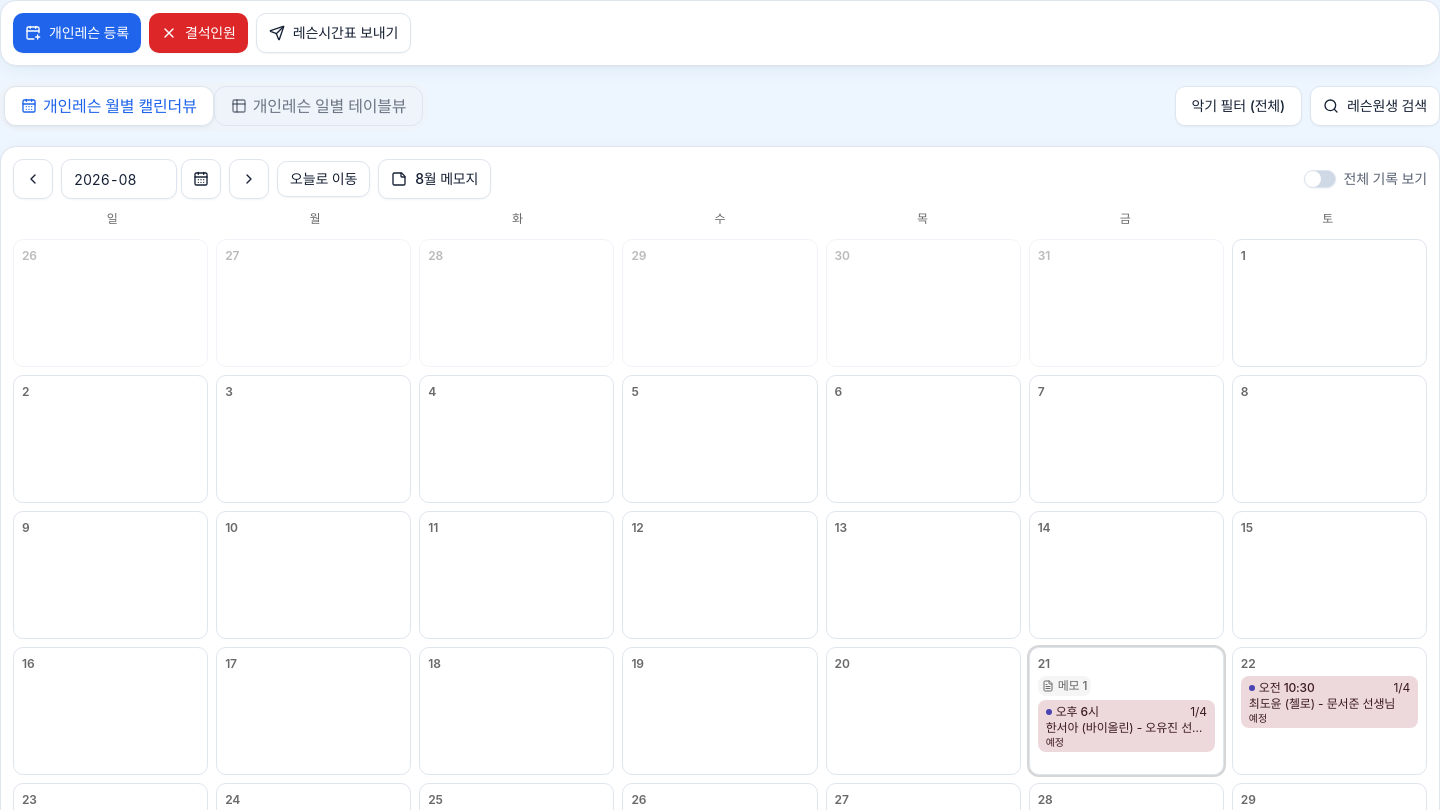
Test: 날짜에서 개인레슨 등록 (명세 3.2) › 출석 확인 창의 버튼으로 그 날짜가 채워진 레슨 일정 등록창을 연다
Click the cell "21 메모 1 오후 6시 1/4 한서아 (바이올린) - 오유진 선생님 예정" at (1126, 711), box [1029, 647, 1224, 775]
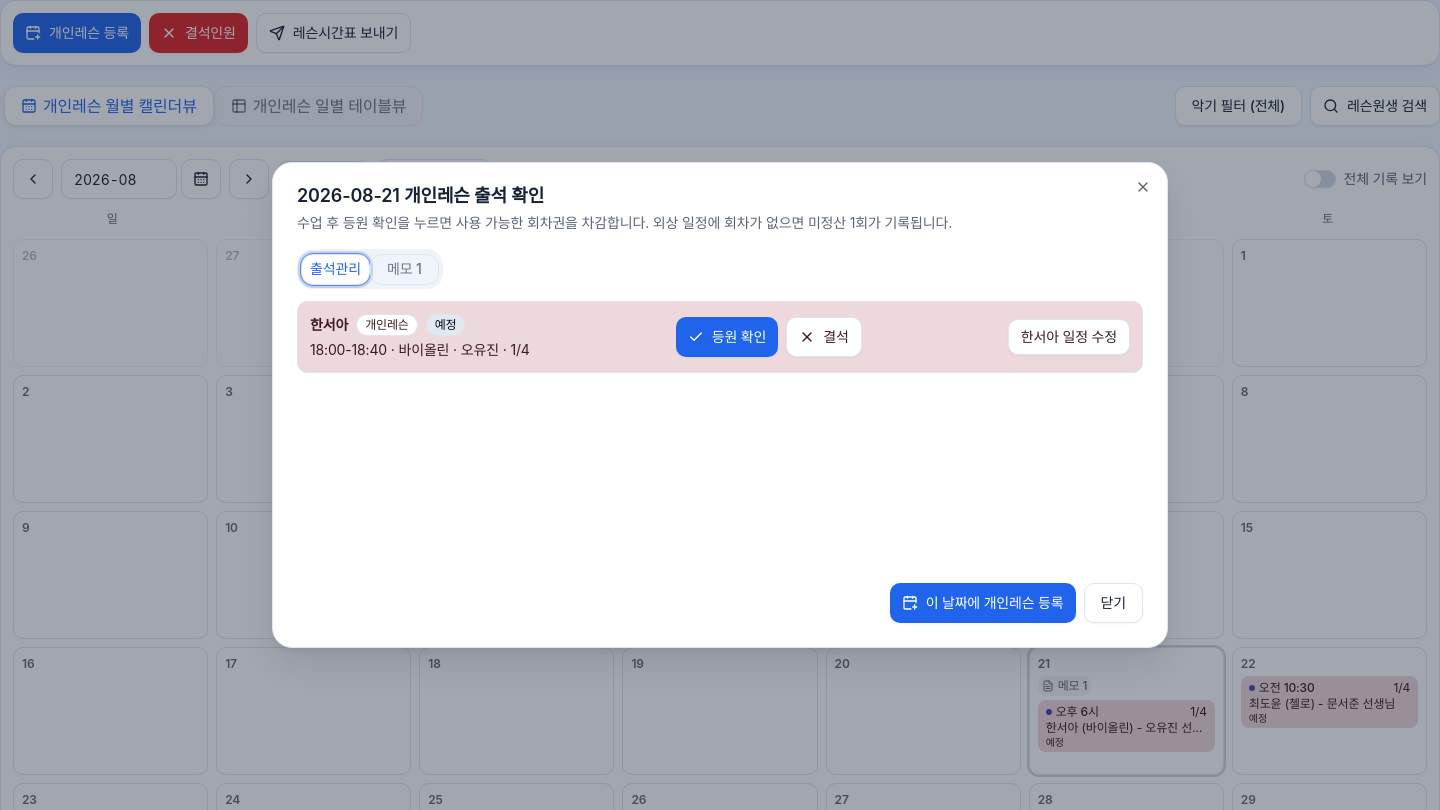
Click the button "이 날짜에 개인레슨 등록" at (983, 603), box [890, 583, 1076, 623]
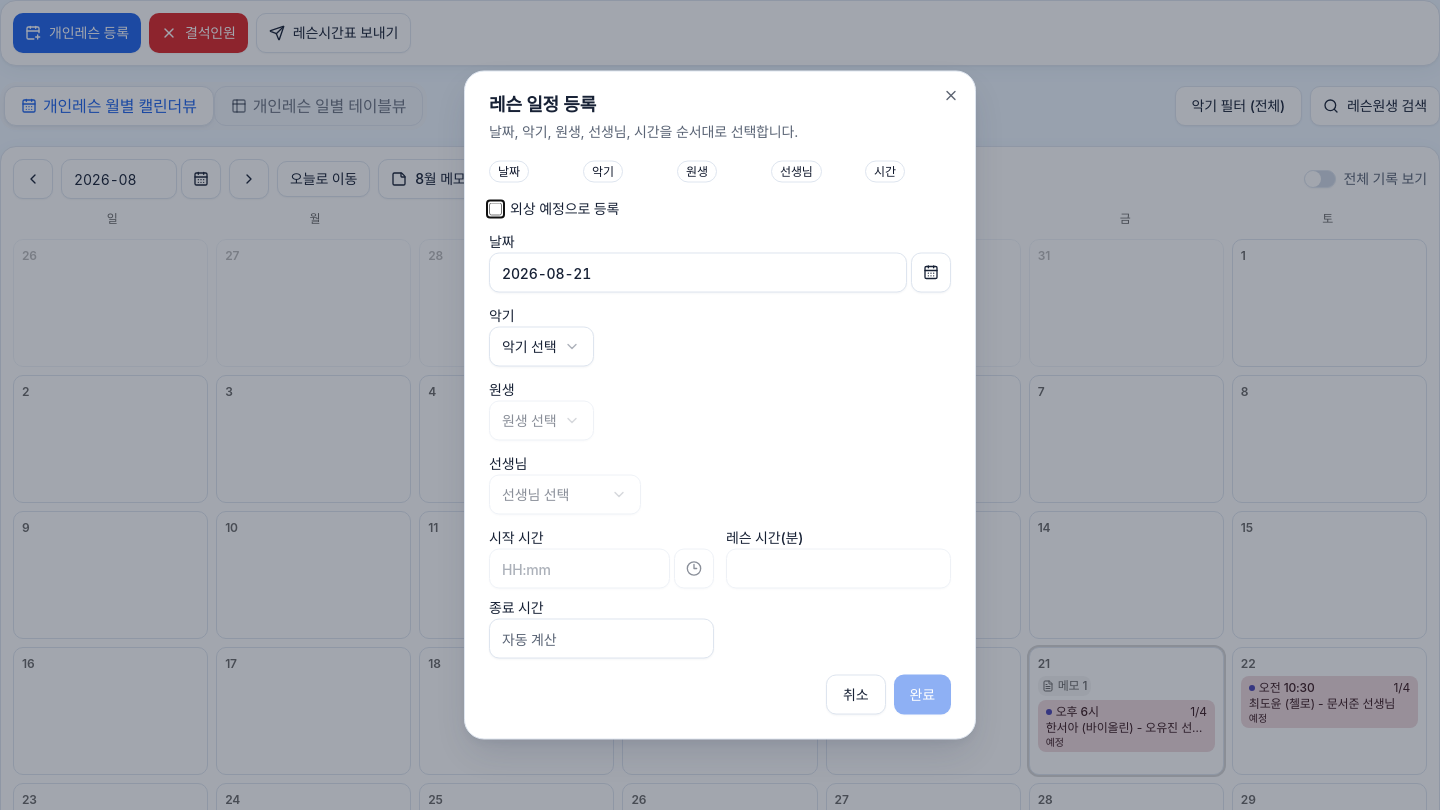
Check: the field labelled "날짜" holds "2026-08-21", box [489, 252, 907, 292]
Check: the heading "2026-08-21 개인레슨 출석 확인" is gone
